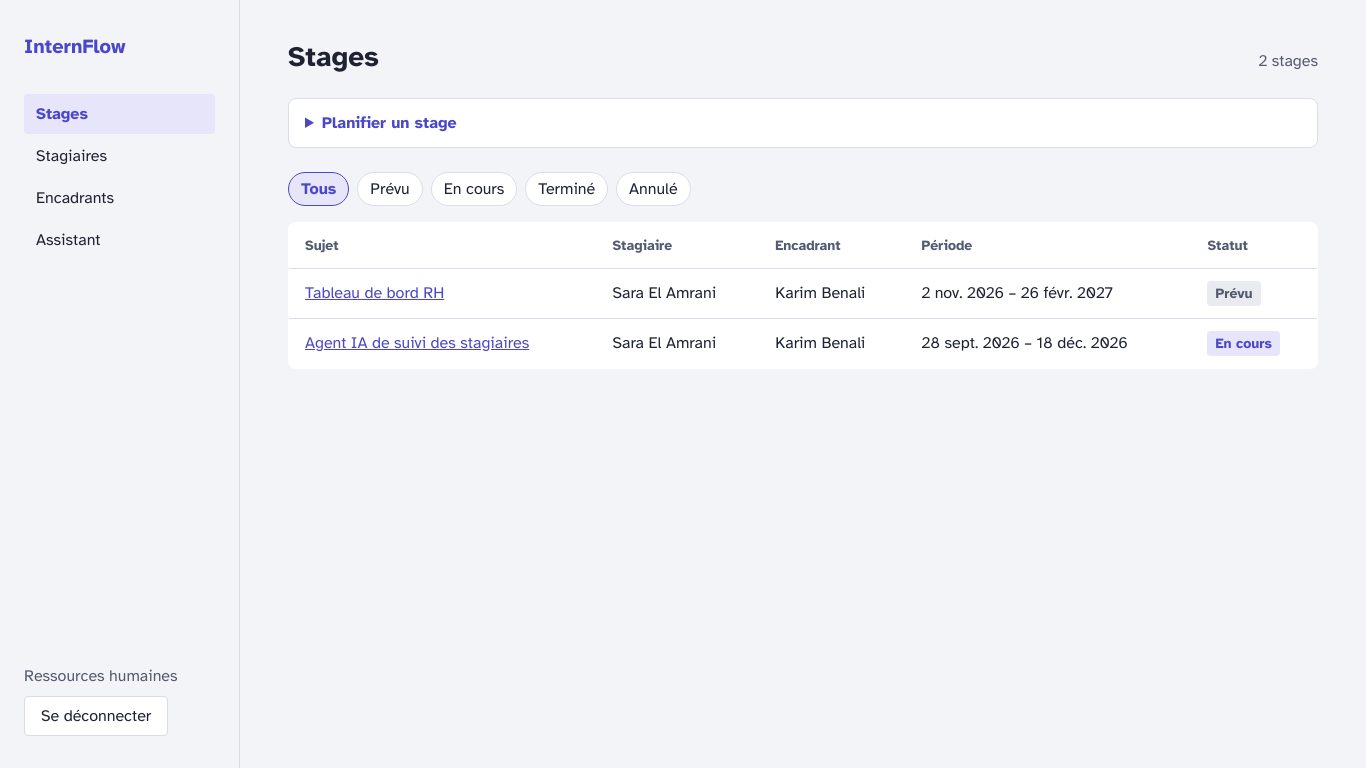
Test: connexion › déconnecte l'utilisateur et oublie son jeton
What coordinates should you click on to do the following:
click the button "Se déconnecter"
I would click on:
 (96, 716)
Its box is [24,696,168,736].
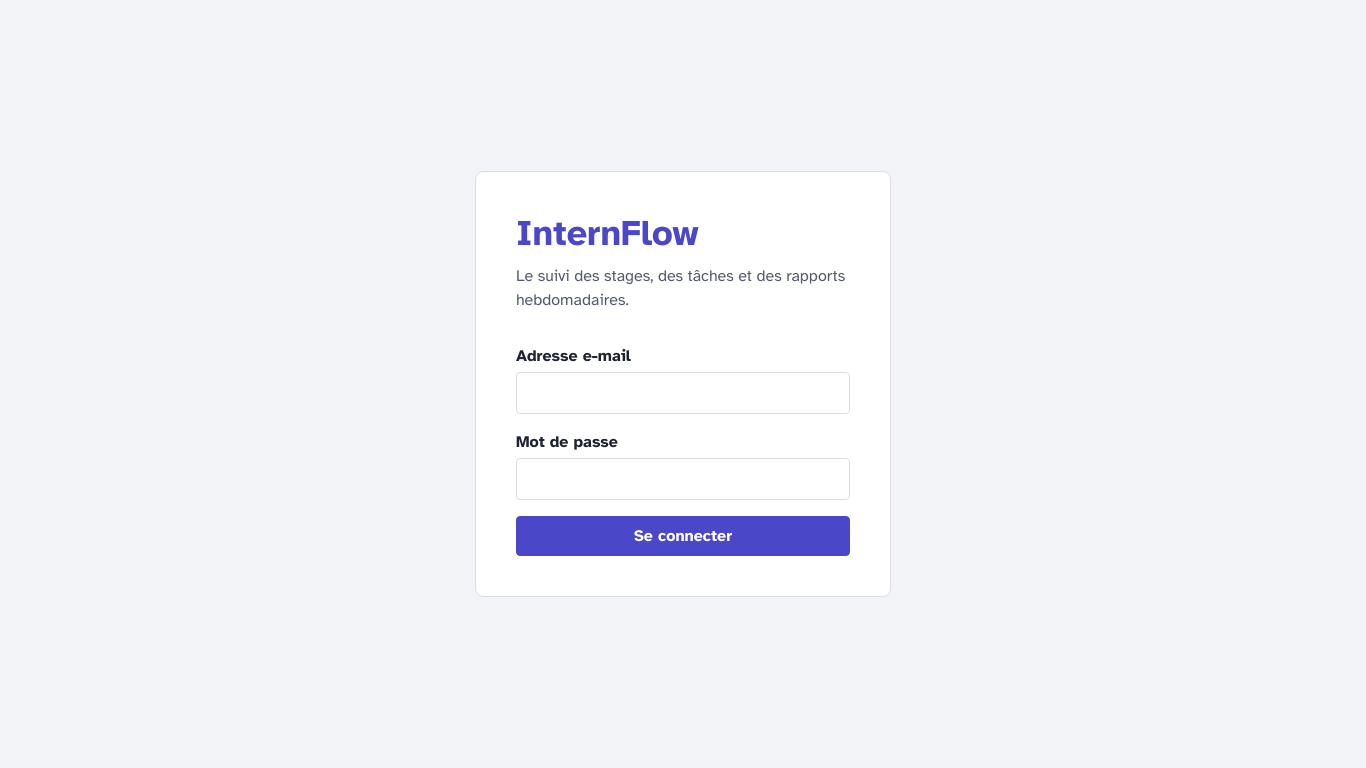
expect the button "Se connecter" is shown: met, box [516,516,850,556]
